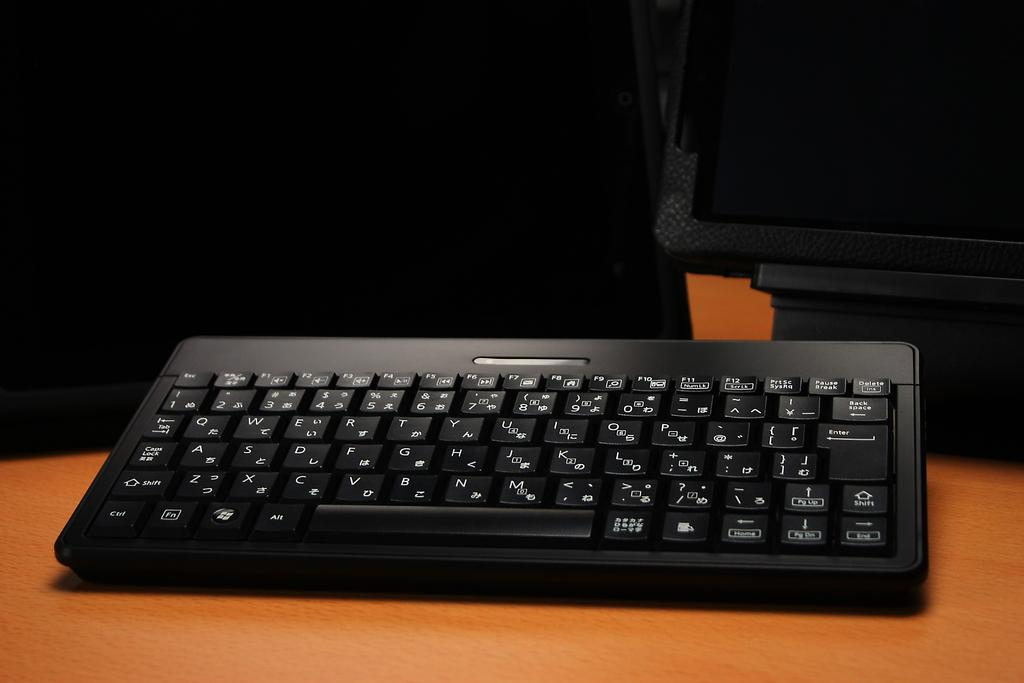Computer-keyboard: (54, 337, 930, 593)
